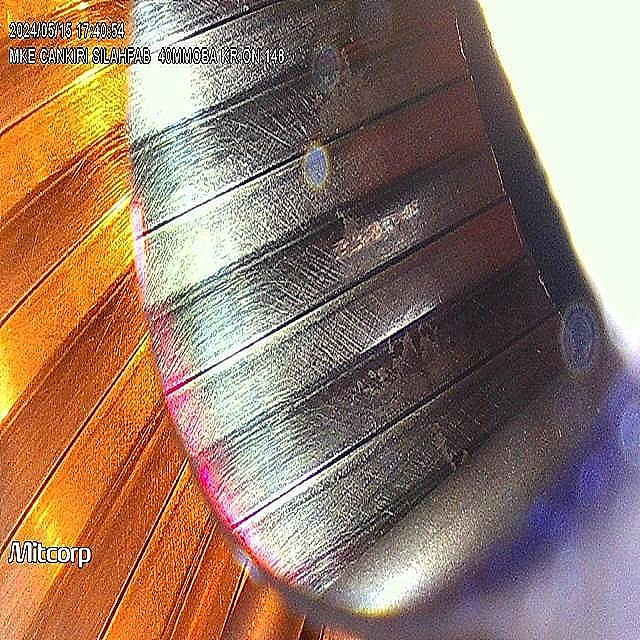hata_8.2: (314, 334, 478, 508), (314, 50, 444, 157)
hata_9.2: (320, 195, 447, 270)
